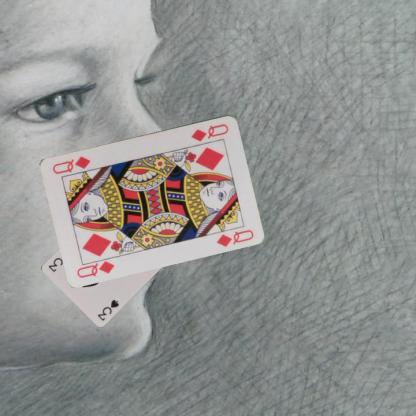3s: (95, 296, 120, 322)
Qd: (74, 253, 116, 279), (188, 120, 230, 142)
